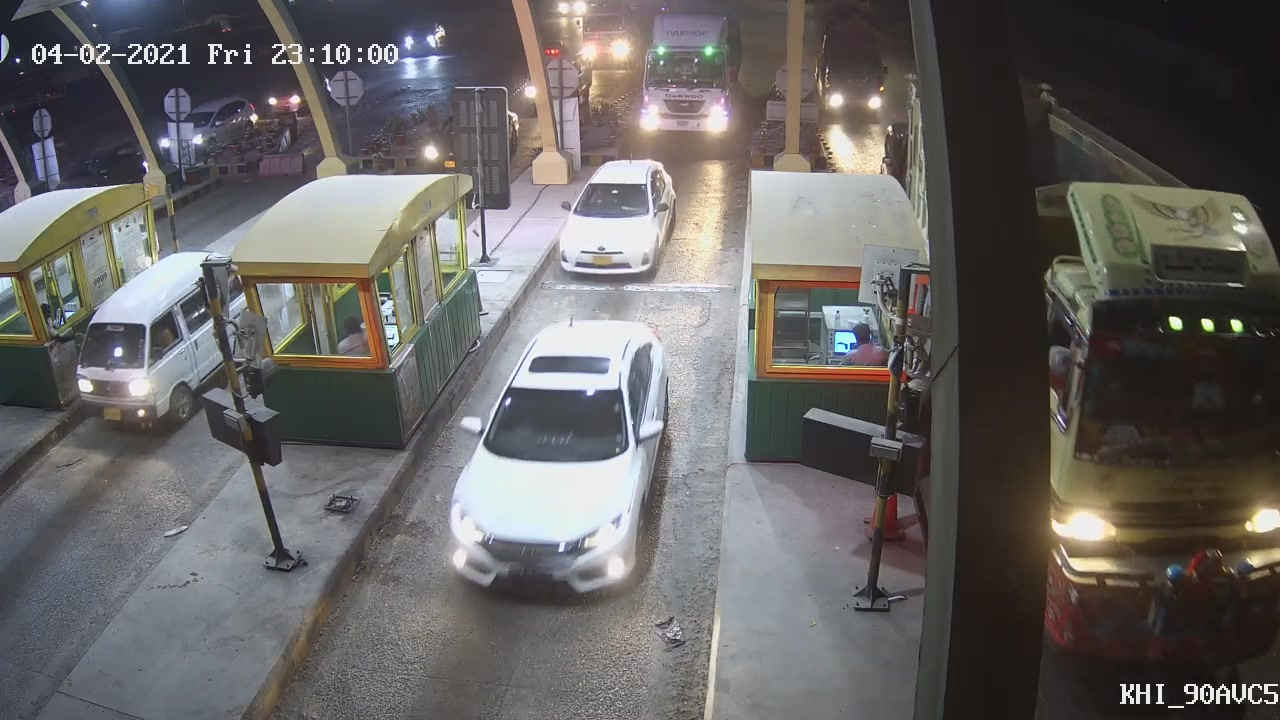F1: (446, 318, 671, 599), (549, 155, 682, 287)
